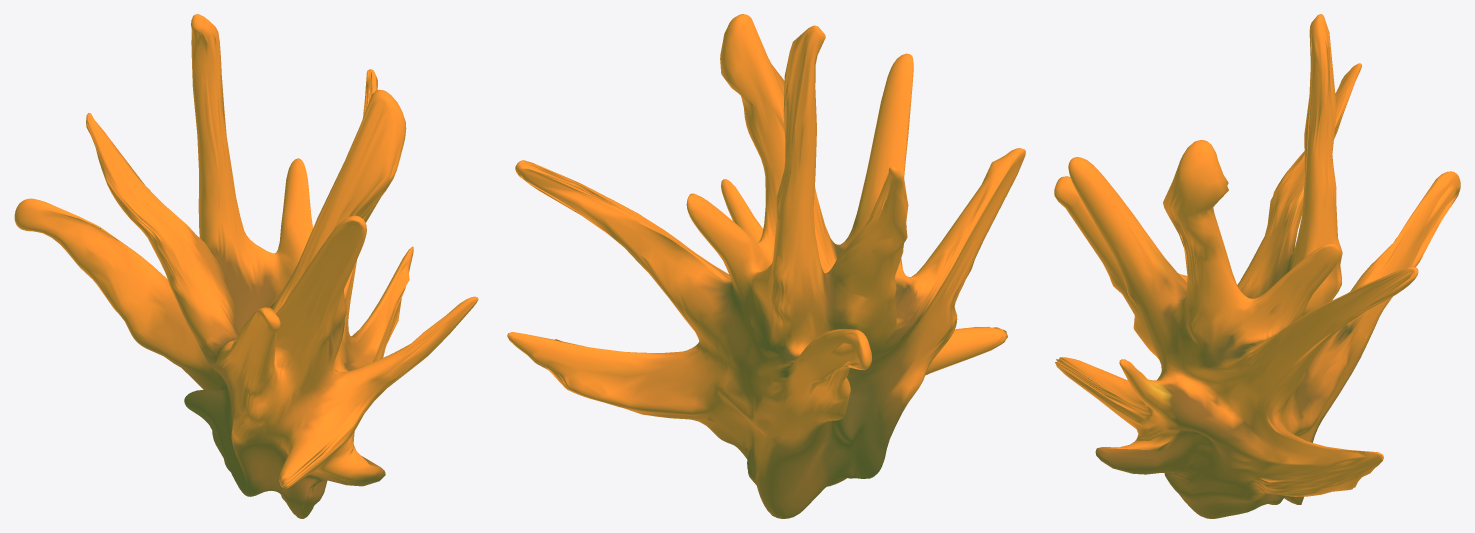
The model's file is Coral_01.fbx.
The picture shows the model from 3 angles, left to right: view 1: azimuth 30°, elevation 25°; view 2: azimuth 150°, elevation 25°; view 3: azimuth 270°, elevation 25°; orthographic projection. The views are drawn at different scales.
Parts seen in each view (by area): view 1: Coral01_LOD0; view 2: Coral01_LOD0; view 3: Coral01_LOD0.
Part boxes in pixels (box(x1,y1,x2,y2)): Coral01_LOD0: box(14, 14, 478, 518); Coral01_LOD0: box(507, 14, 1025, 518); Coral01_LOD0: box(1054, 14, 1460, 518).
Size of what is drawn, in the model's own units: 397 by 493 by 381.
